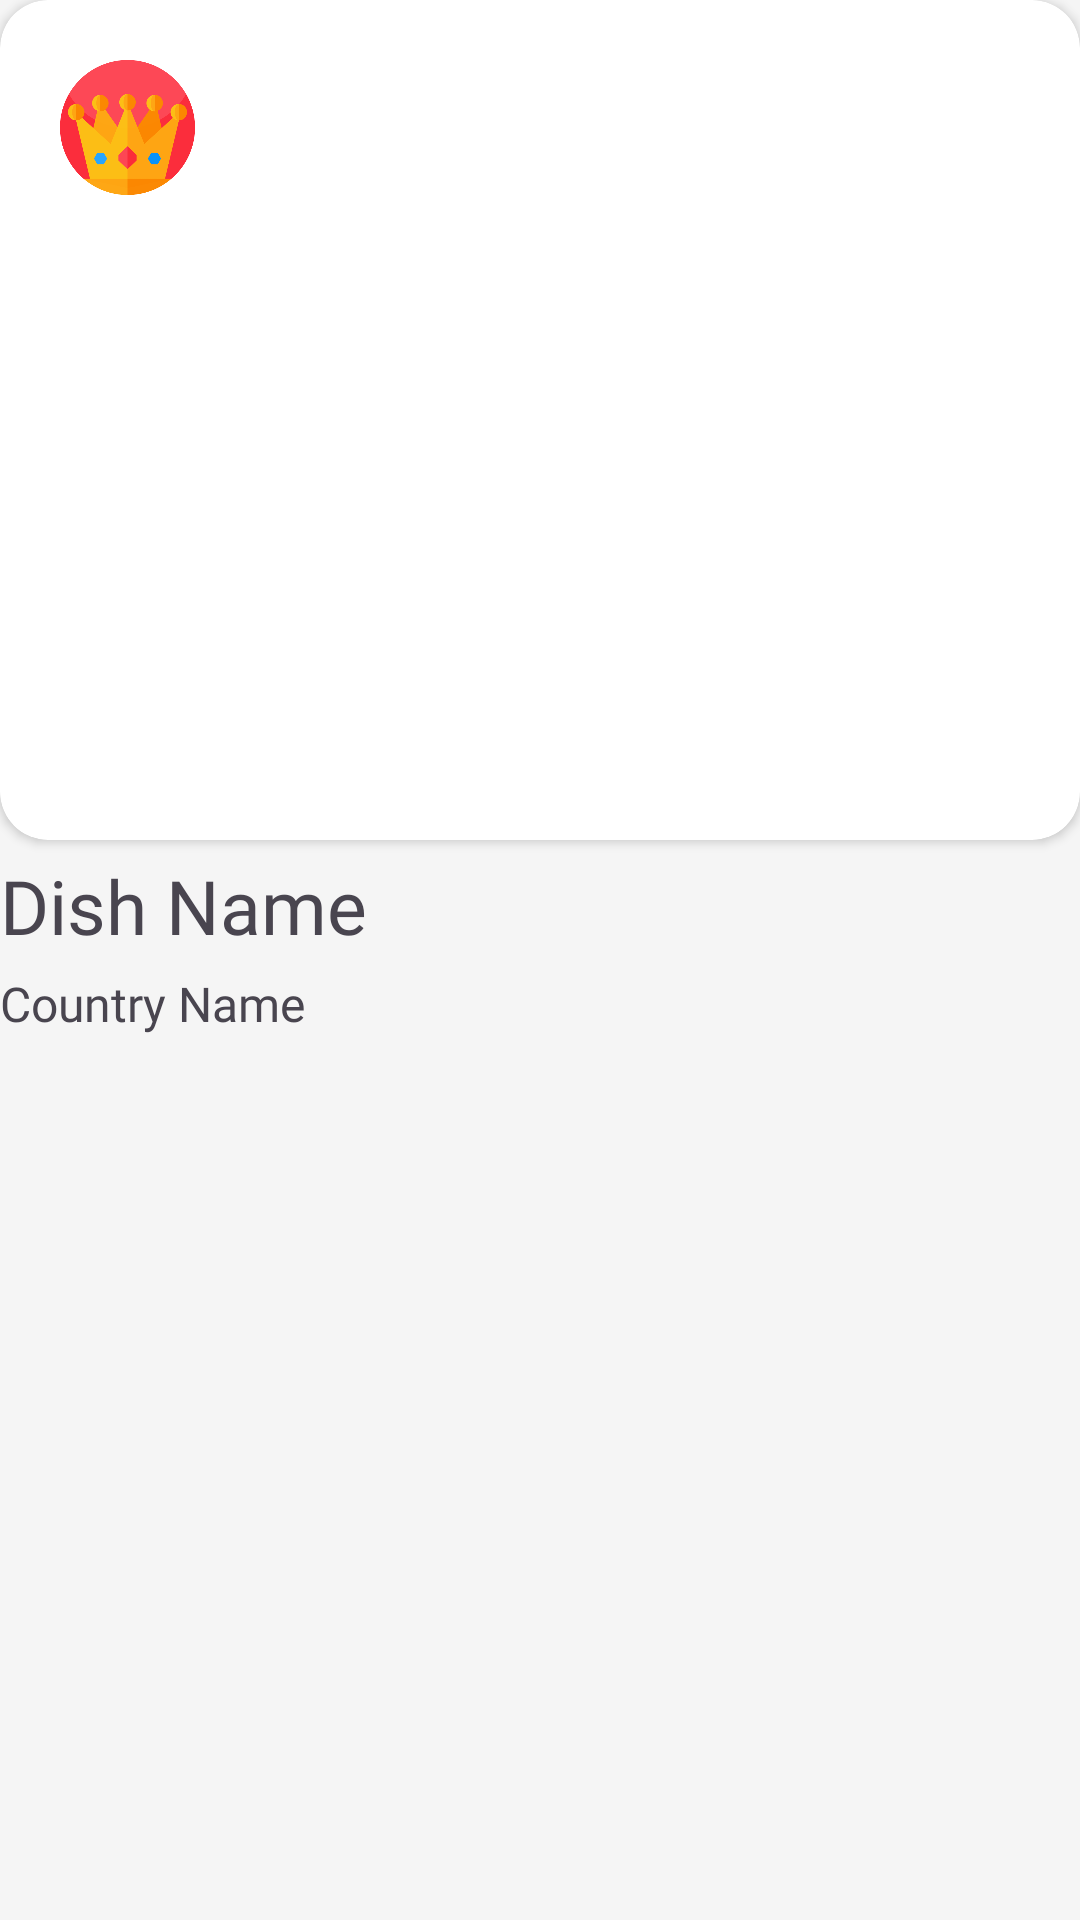

Screen size 1080×1920. Icon name, then its center in pixels as [x,y]:
premium: [127,127]
